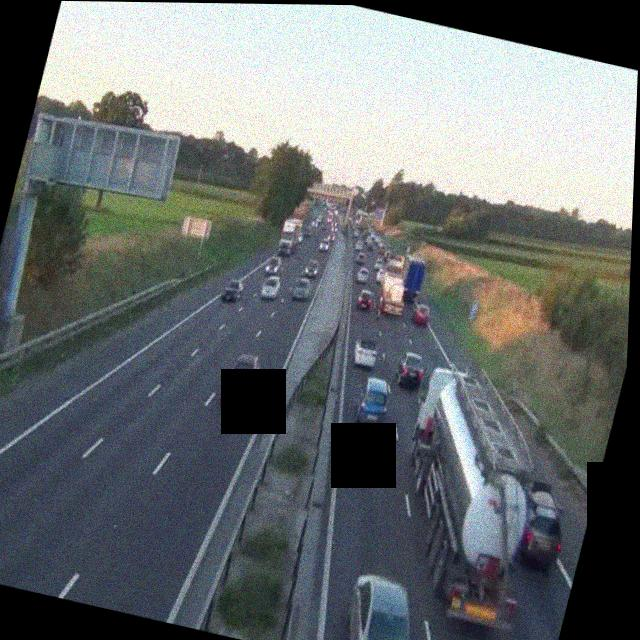car: (336, 569, 431, 640), (510, 486, 574, 573), (219, 351, 264, 410), (351, 374, 394, 430), (392, 350, 427, 391), (352, 339, 379, 369), (219, 275, 245, 305), (259, 271, 282, 301), (291, 273, 313, 301), (411, 303, 433, 327), (355, 286, 375, 311), (263, 256, 282, 278), (304, 258, 320, 278), (355, 266, 370, 284), (353, 251, 366, 267), (320, 238, 332, 252), (352, 237, 363, 250)
truck: (368, 363, 568, 630), (374, 263, 413, 319), (399, 256, 428, 299), (277, 216, 304, 257)
